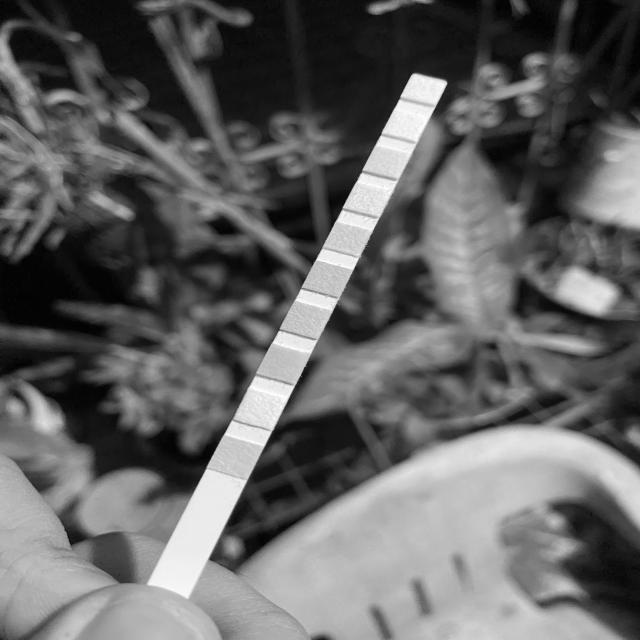Bilirubin: (243, 398, 279, 422)
Blood: (311, 271, 345, 288)
Glucose: (217, 448, 254, 468)
Ketone: (265, 354, 301, 375)
Leukocytes: (408, 82, 442, 98)
Nitrite: (390, 118, 423, 134)
Protein: (352, 192, 386, 208)
SpGravity: (288, 310, 326, 330)
Urobilinogen: (370, 154, 404, 172)
background: (0, 0, 640, 640)
pH: (331, 230, 363, 248)
strip: (150, 75, 449, 593)
